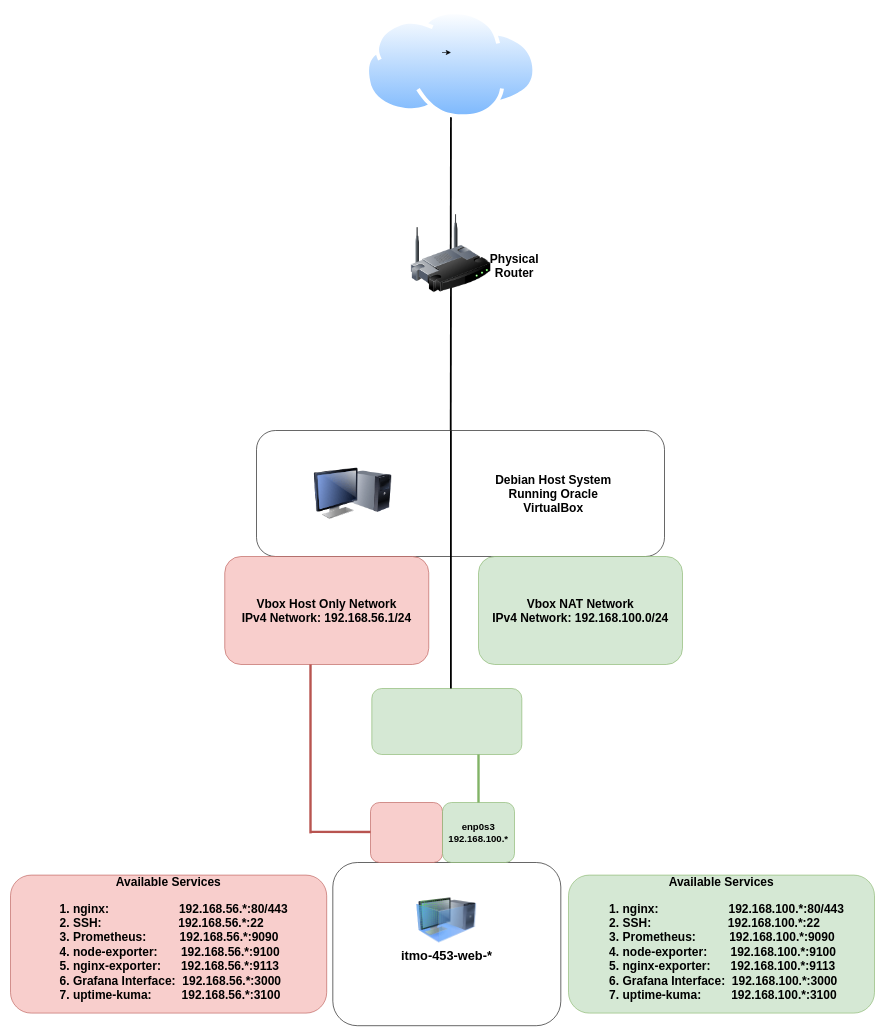
The diagram is 885 pixels wide and 1036 high, and some of its shapes have lost their labels. Each missing label, with the centre of its shape:
enp0s8: 192.168.56.*: (x=406, y=832)
Public Internet: (x=450, y=64)
Virtual Gateway: (x=446, y=721)
